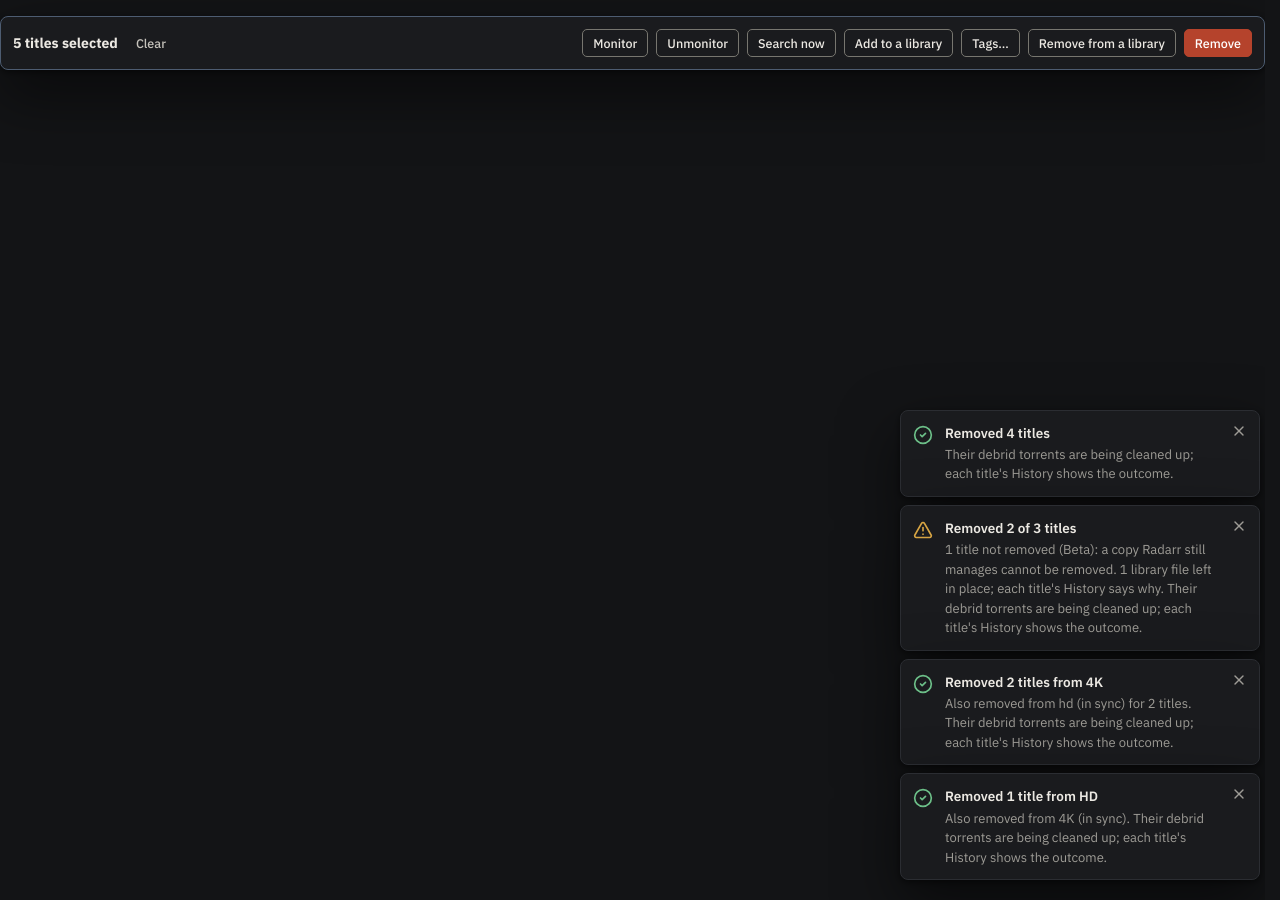
Test: Bulk Remove after the preview › removes only what the preview showed: a title that changed since is skipped and said so
This screenshot has width=1280, height=900.
Step 1. Click the button "Remove" → (1218, 43), box x1=1184 y1=29 x2=1252 y2=57
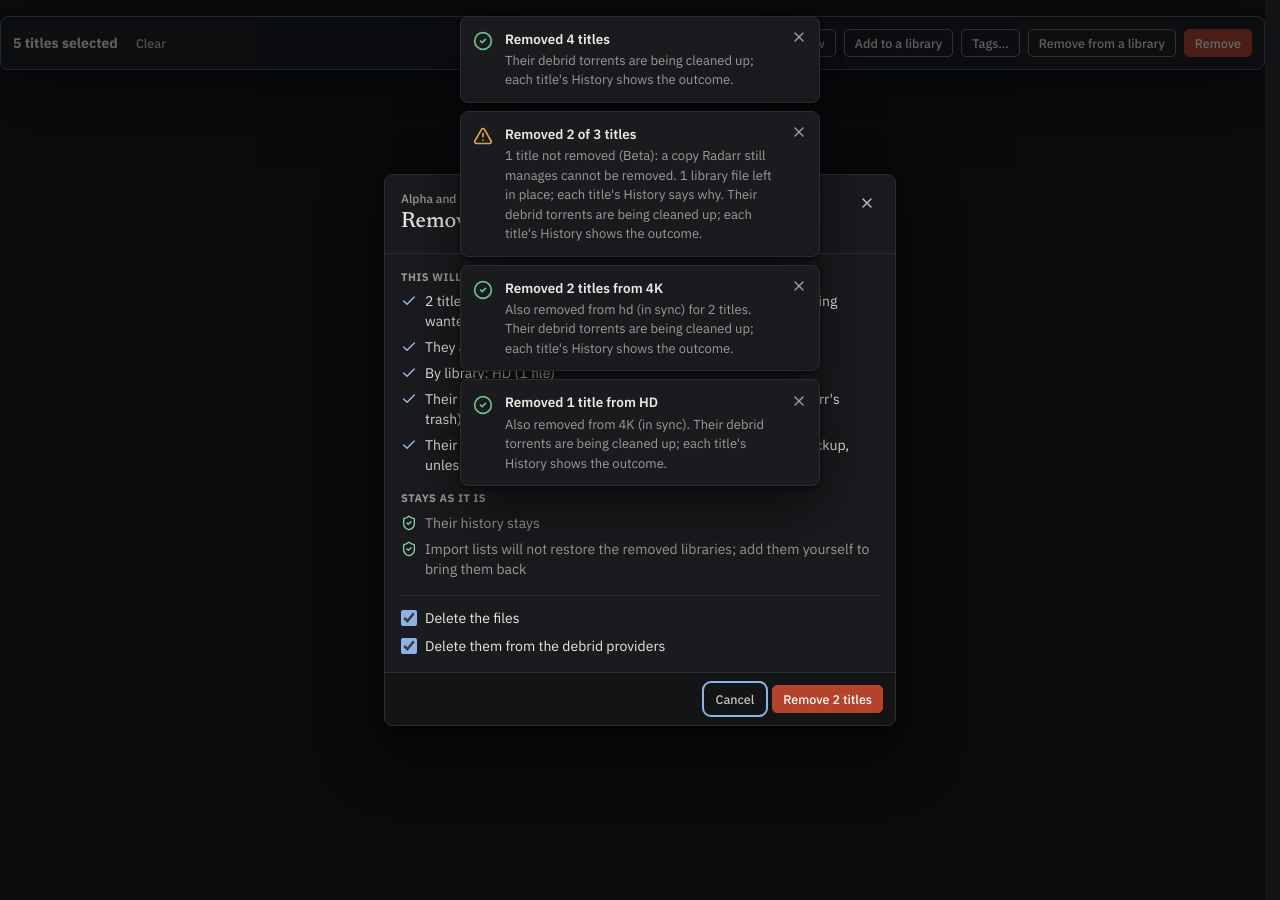
Step 2. Click the button "Remove 2 titles" → (828, 699), box x1=772 y1=685 x2=883 y2=713
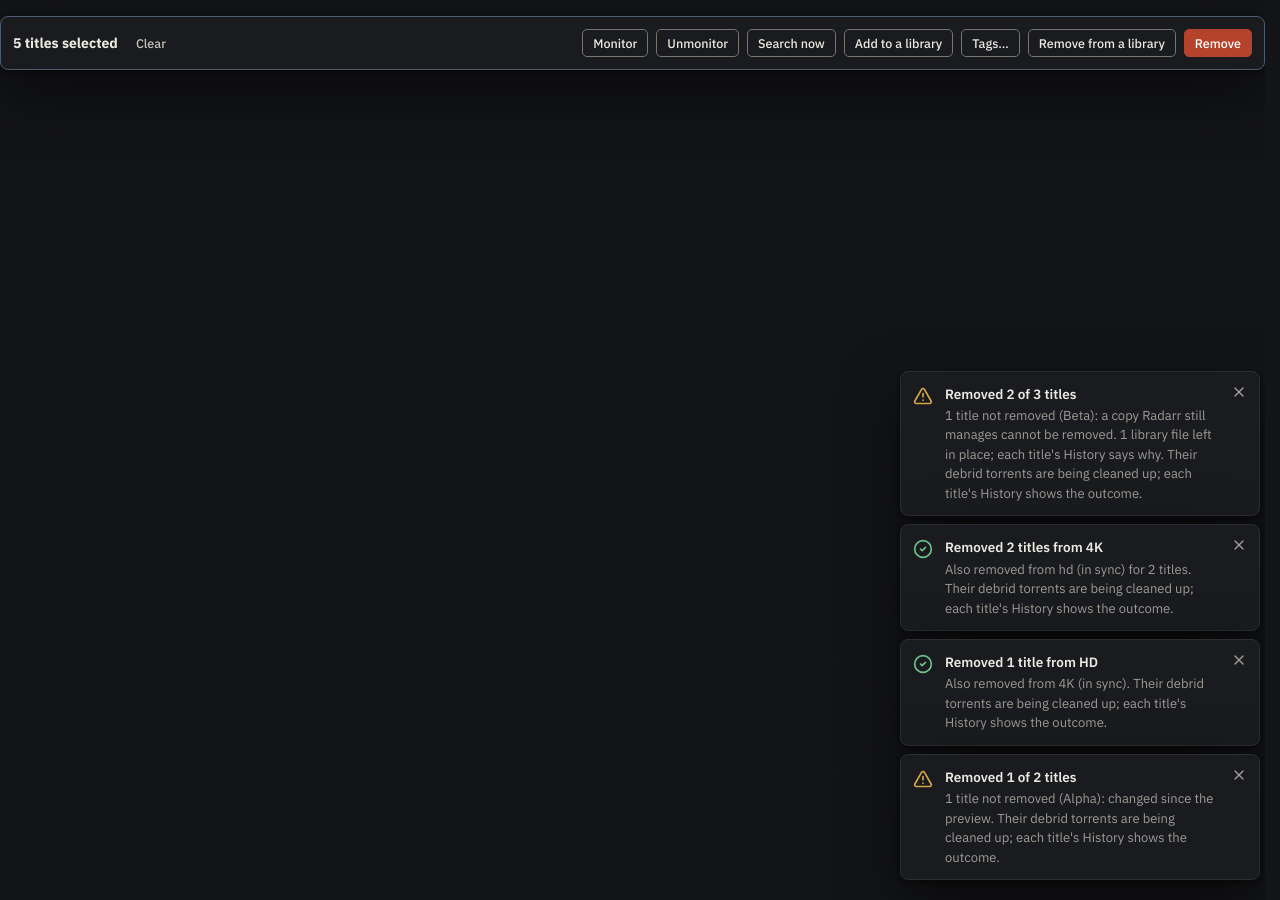
Expected: the text "Removed 1 of 2 titles" is shown, x1=945 y1=767 x2=1077 y2=787
Expected: the text "1 title not removed (Alpha): changed since the preview." is shown, x1=945 y1=790 x2=1214 y2=866
